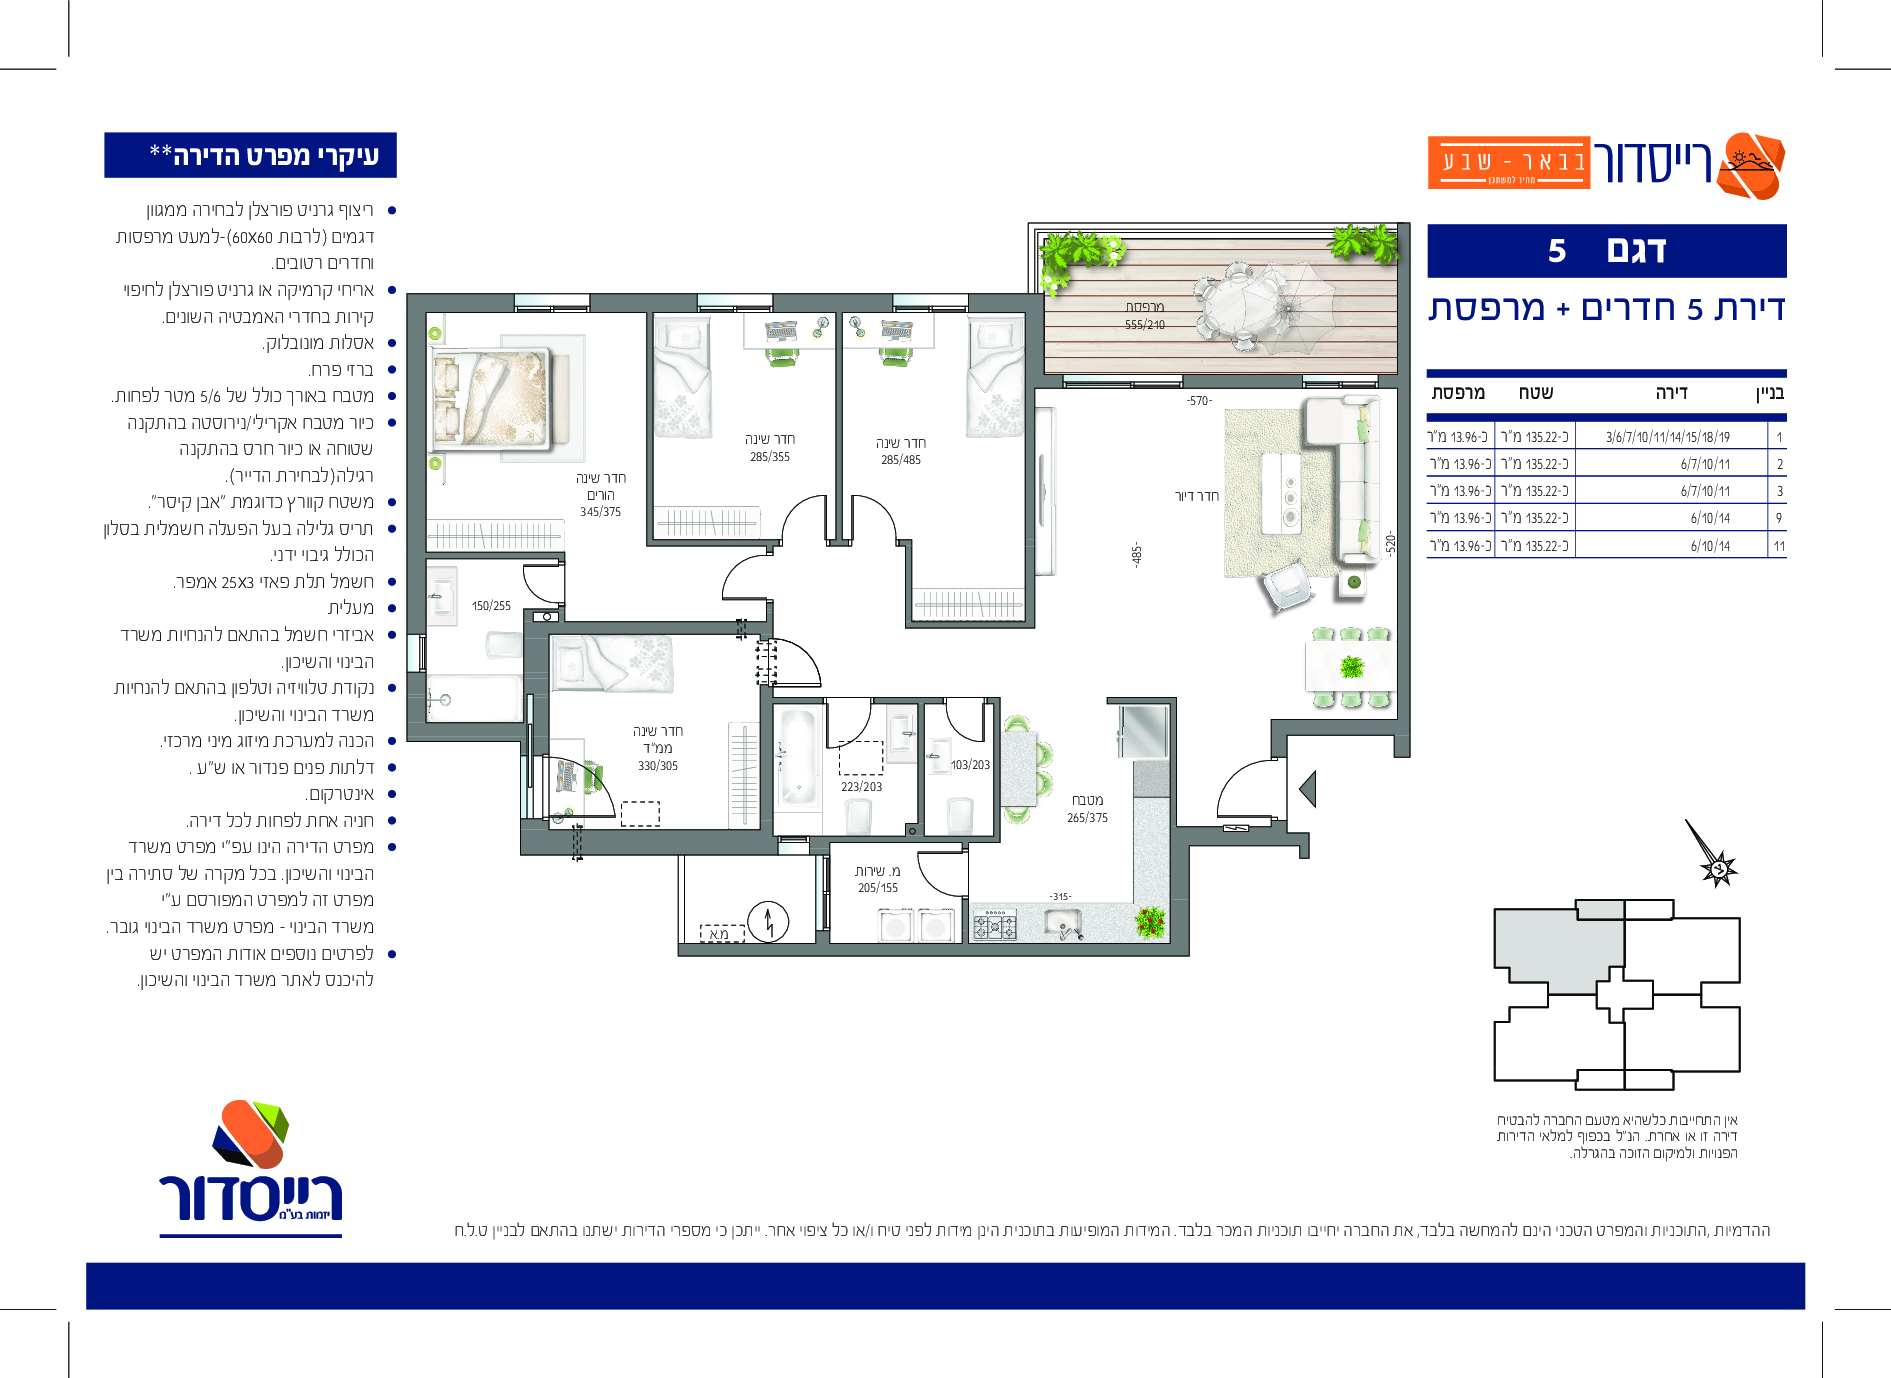door: (1202, 743, 1266, 820), (716, 550, 763, 613), (781, 637, 832, 693), (774, 481, 828, 530), (916, 845, 960, 904), (847, 490, 901, 534), (824, 709, 875, 751), (515, 561, 559, 608), (941, 704, 984, 747)
md: (401, 126, 1426, 1002)
rd: (1420, 90, 1876, 1319), (63, 100, 401, 1322)
wall: (686, 945, 1197, 957), (407, 296, 424, 619), (1401, 233, 1411, 690), (581, 831, 769, 856), (761, 685, 774, 845), (533, 622, 548, 753), (777, 295, 890, 311), (526, 624, 731, 633), (592, 294, 693, 311), (1172, 826, 1186, 947), (407, 723, 515, 738), (1271, 722, 1404, 734), (1169, 699, 1176, 901), (1026, 296, 1042, 384), (1028, 390, 1034, 619), (835, 298, 840, 546), (970, 295, 1031, 311), (810, 836, 992, 841), (907, 621, 1034, 627), (647, 313, 650, 543), (994, 699, 998, 839), (919, 699, 923, 836), (876, 697, 943, 703), (649, 542, 777, 544), (1107, 699, 1175, 701)
window: (1057, 368, 1186, 393), (509, 286, 593, 323), (1293, 368, 1390, 398), (805, 853, 838, 933), (692, 288, 777, 318), (890, 288, 970, 320), (404, 628, 432, 675)
